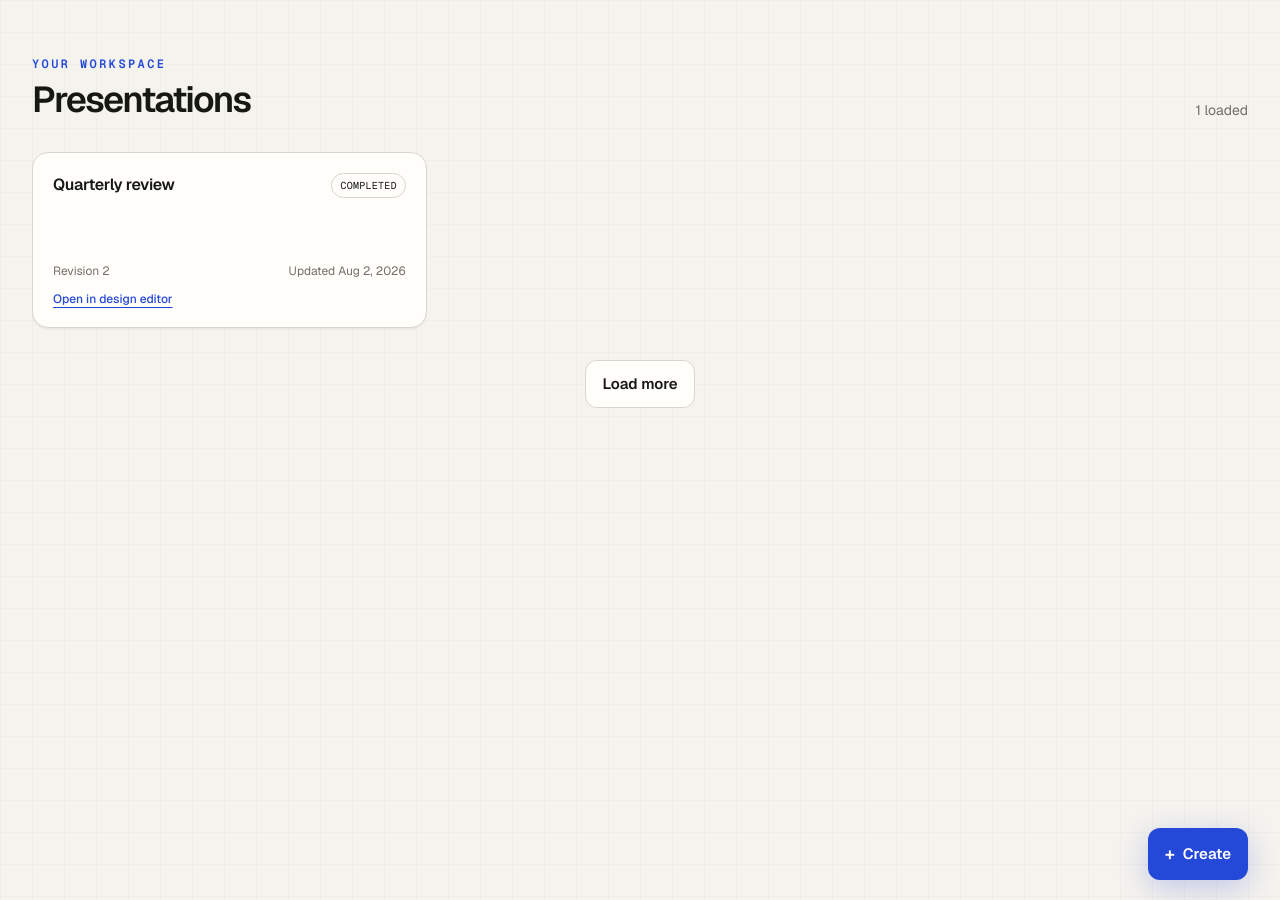
Test: PresentationDashboard › appends cursor pages and preserves cards after a later failure
What coordinates should you click on to do the following:
click the button "Load more"
I would click on:
 (640, 384)
Its box is [585,360,695,408].
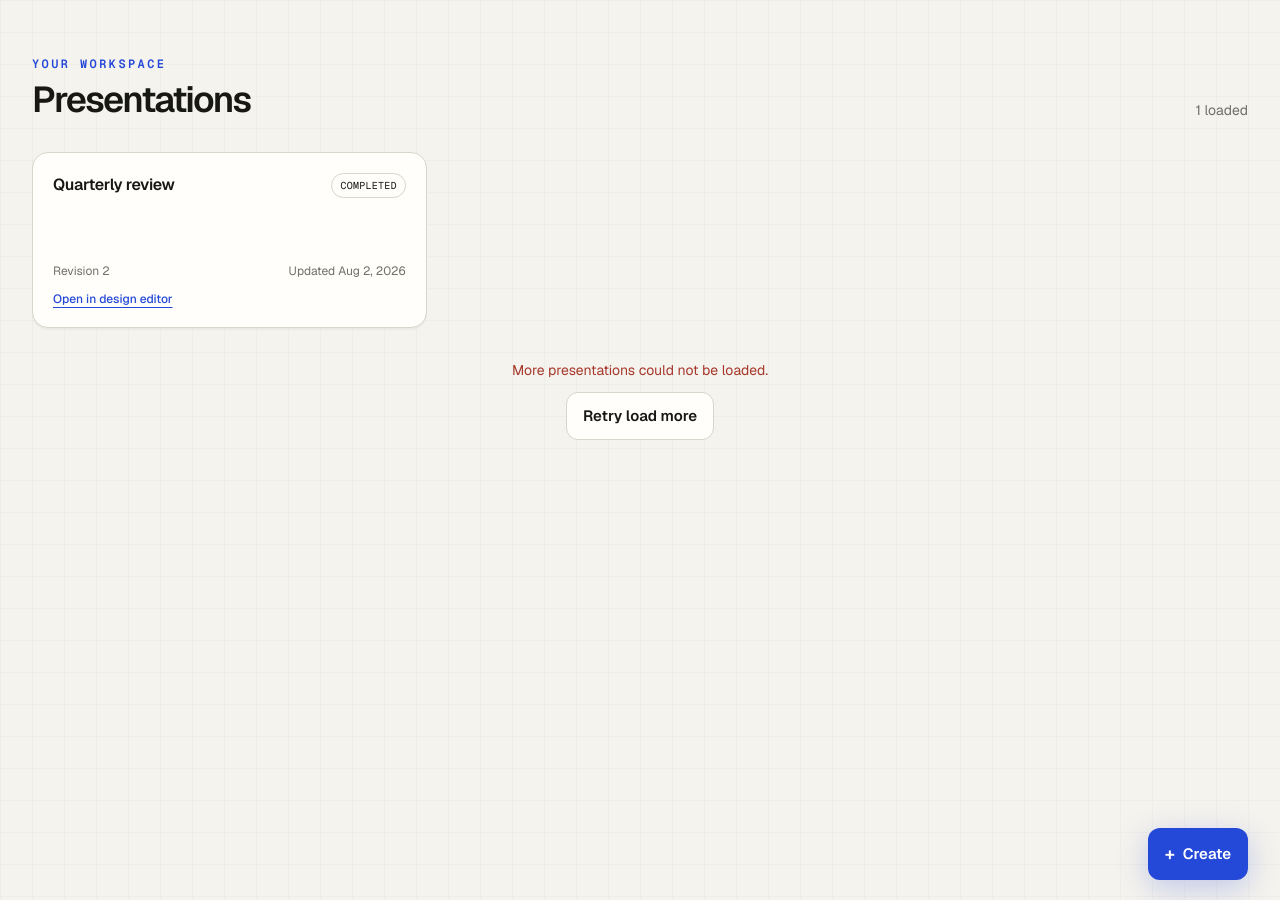
Check: the heading "Quarterly review" is shown, box [53,173,175,197]
Check: the text "More presentations could not be loaded." is shown, box [512,360,768,380]
